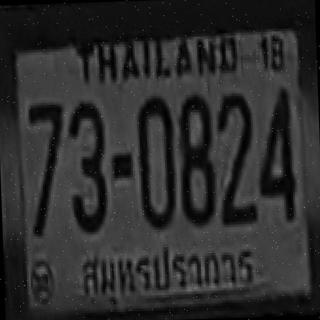N00: (136, 93, 174, 228)
N02: (216, 90, 255, 222)
N03: (66, 99, 107, 231)
N04: (254, 86, 294, 221)
N07: (27, 102, 65, 234)
N08: (176, 92, 214, 224)
P57: (71, 243, 268, 298)
